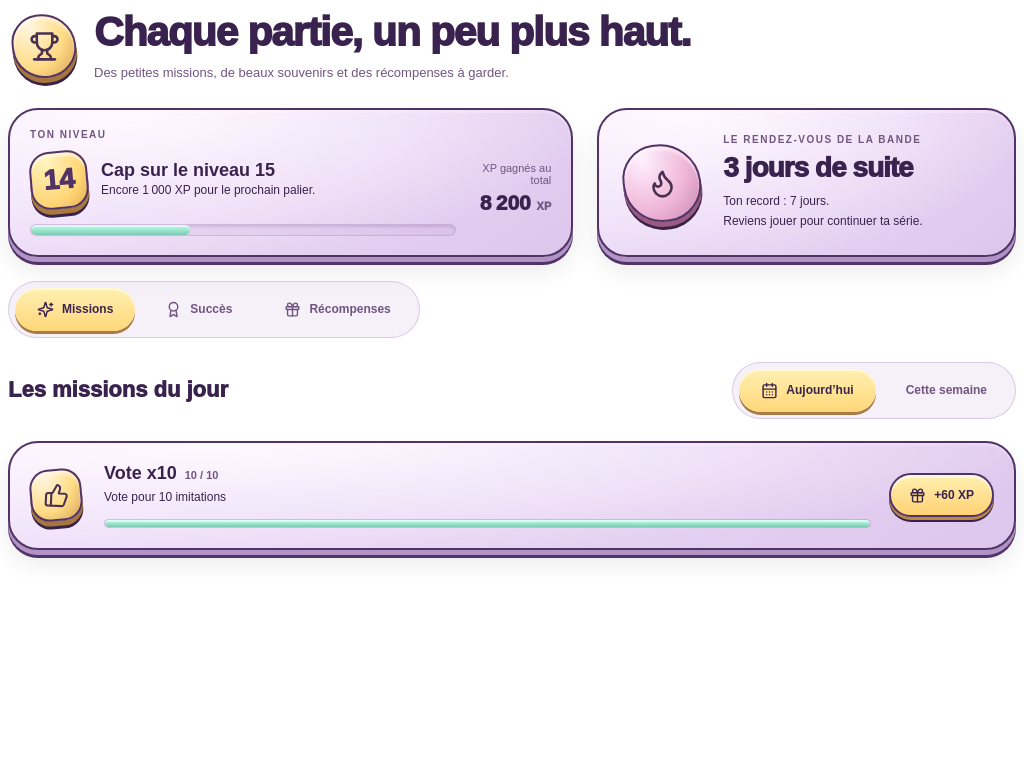
Test: Bubble progression › claims once and locks controls while waiting for the server
Later steps or results of the test are not shown.
Click the button with aria-label "Récupérer 60 XP". click: (942, 495)
box: top-left (889, 473), bottom-right (994, 517)
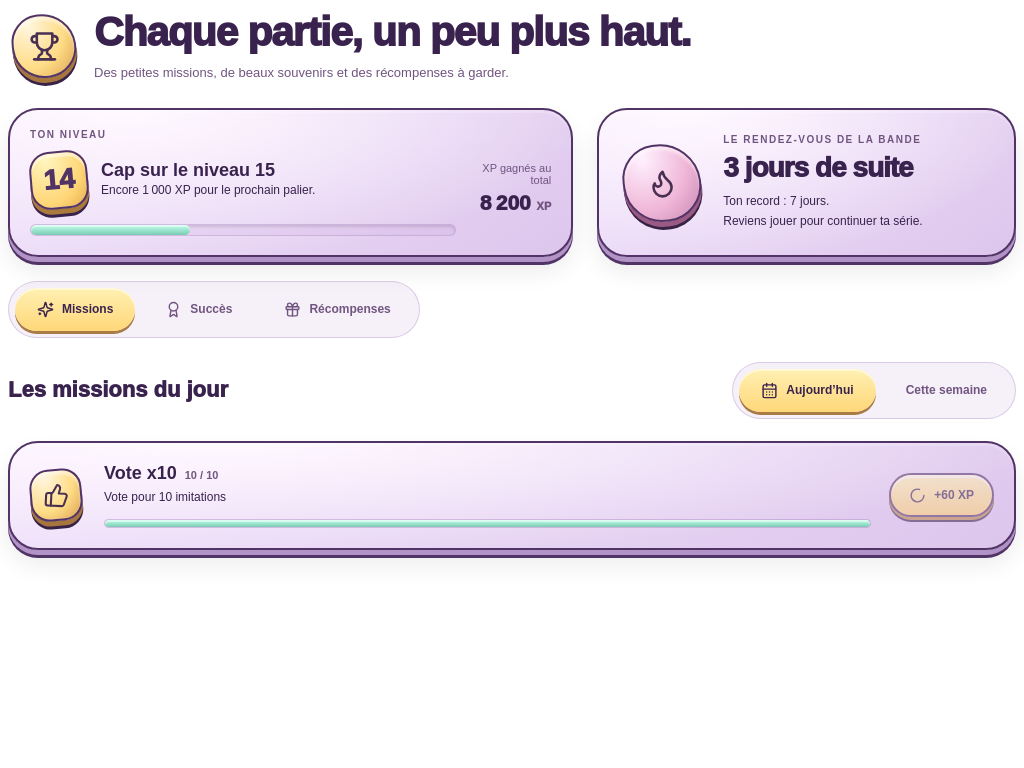
Click the button with aria-label "Récupérer 60 XP". click: (942, 495)
box: top-left (889, 473), bottom-right (994, 517)
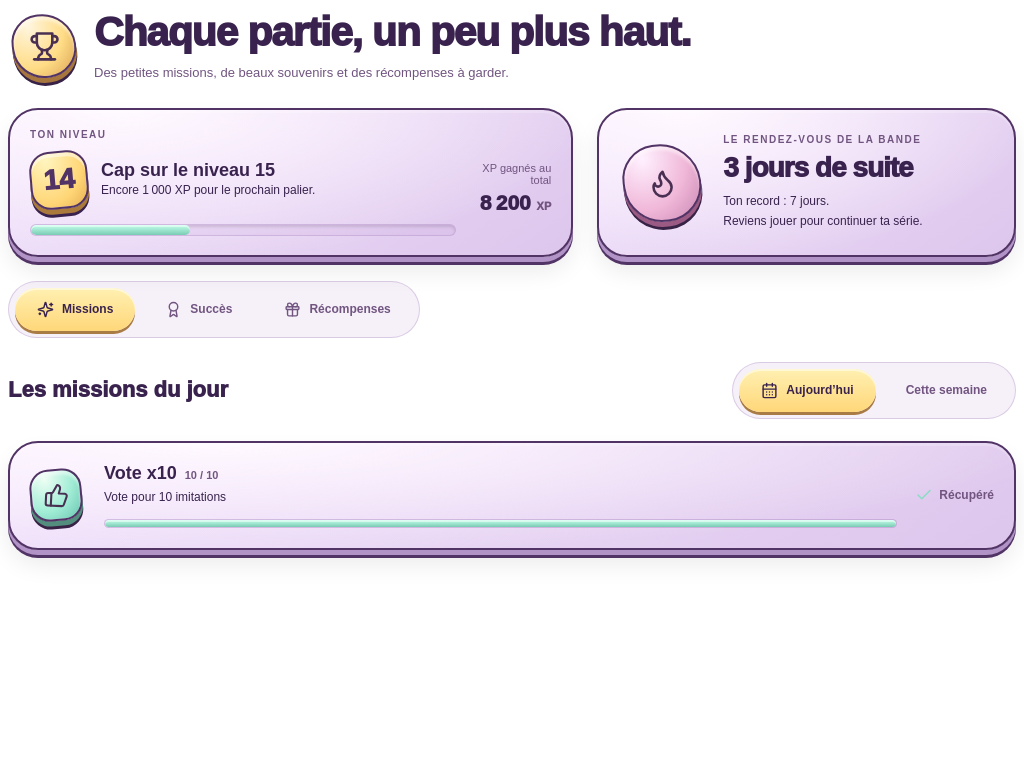
Check: the text "Récupéré" is shown, box top-left (915, 486), bottom-right (994, 504)
